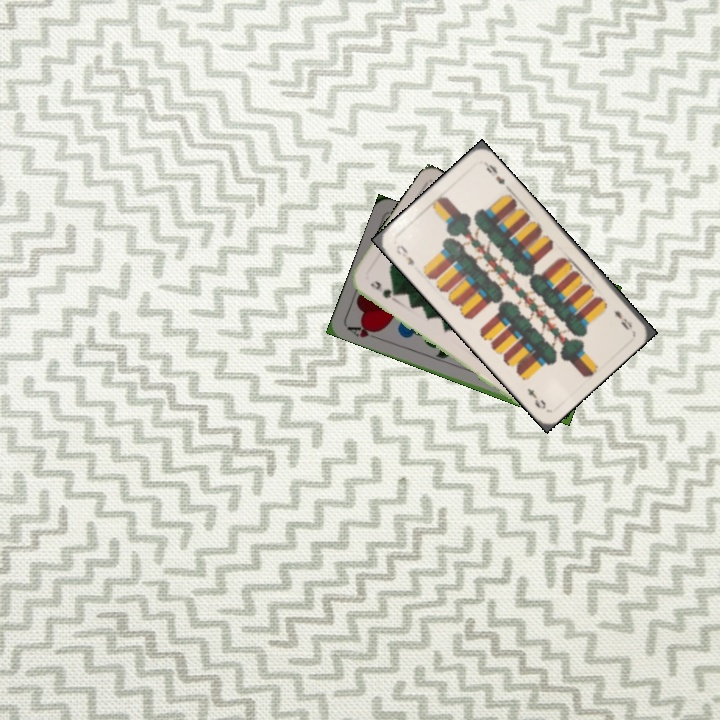E9: (392, 241, 417, 268), (610, 306, 635, 333)
G9: (366, 277, 399, 304)
HA: (343, 320, 383, 343)
